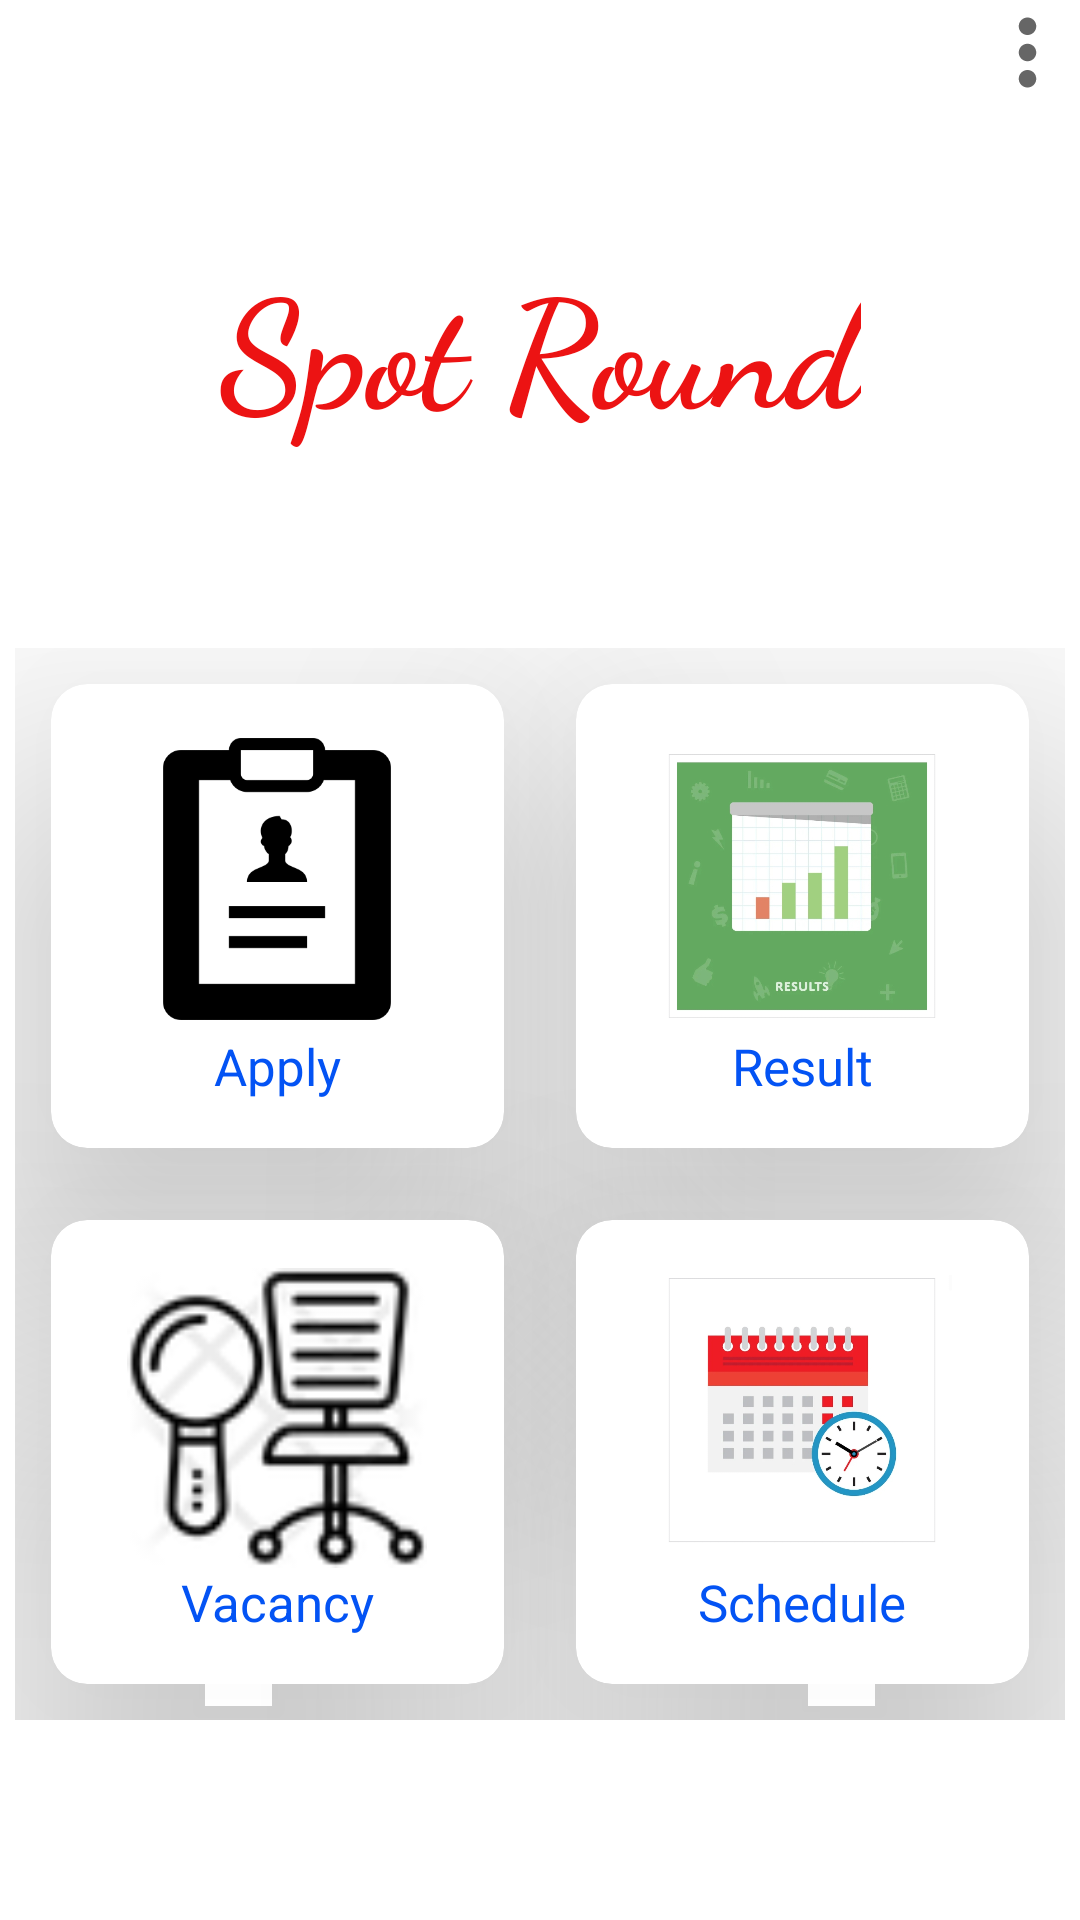

Icon bounding boxes for this 1080×1920 phone screenshot, format {"left": x1, "top": y1, "right": x2, "bottom": y2}:
more vert: {"left": 1018, "top": 17, "right": 1037, "bottom": 88}
